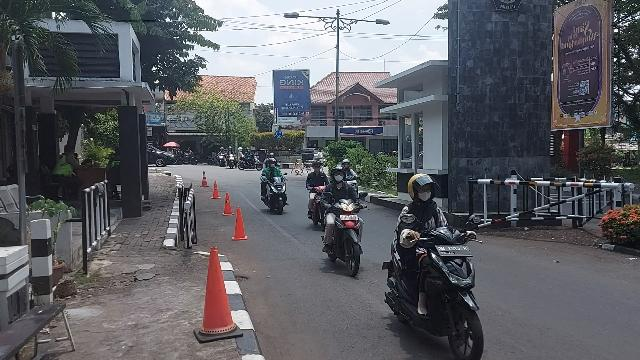helm: (409, 175, 440, 201), (332, 166, 346, 182), (269, 159, 277, 169), (343, 160, 351, 169), (271, 154, 275, 158)
motor: (383, 228, 484, 360), (325, 201, 369, 279), (263, 177, 288, 216)
non-helm: (315, 165, 322, 174)
